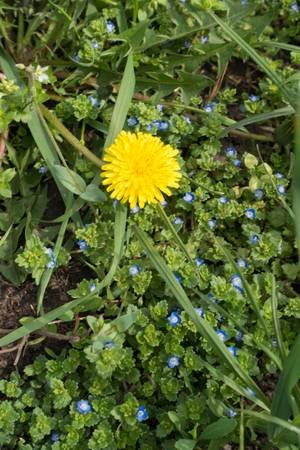dandelion: (98, 131, 185, 205)
